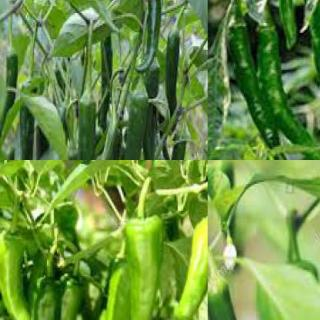green_chilli: (254, 19, 319, 160), (225, 24, 290, 159), (125, 213, 164, 319), (171, 215, 207, 319), (0, 232, 32, 319), (132, 0, 166, 73), (256, 0, 301, 52), (302, 0, 319, 128), (101, 260, 134, 319), (0, 49, 19, 145), (123, 92, 149, 159), (142, 70, 160, 159), (208, 276, 243, 319), (164, 27, 180, 121), (98, 41, 114, 130), (52, 280, 86, 319), (28, 283, 62, 319), (78, 95, 97, 159), (98, 128, 119, 160), (20, 106, 32, 160), (171, 137, 189, 159)
